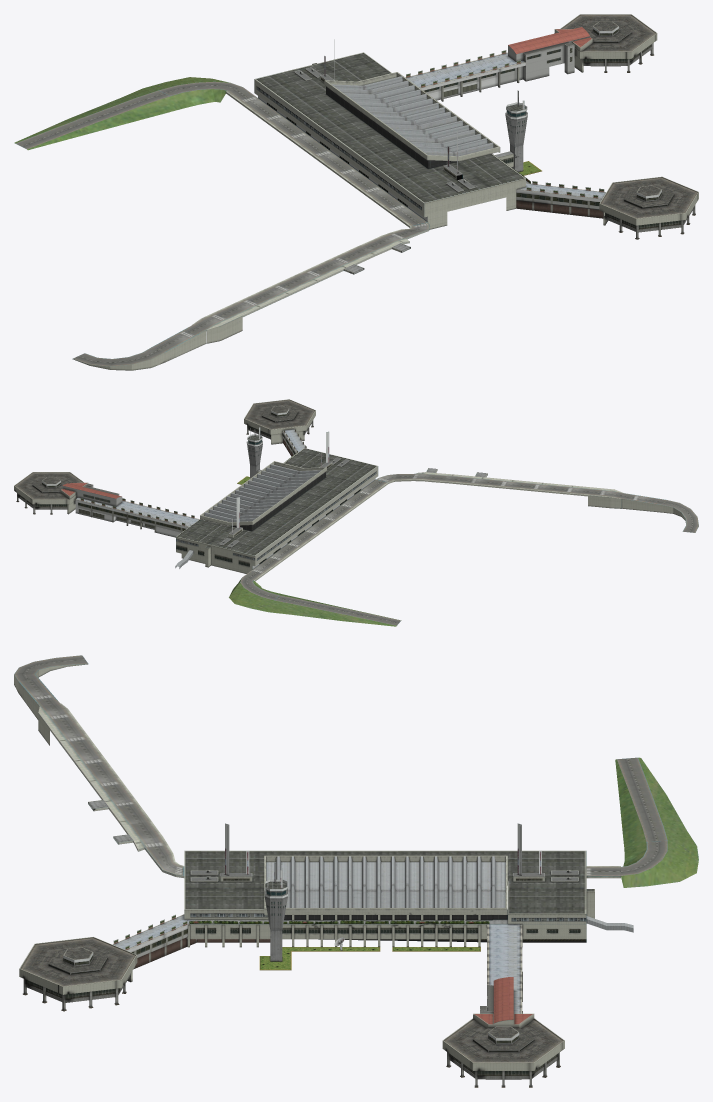
Rendered from terminal_nalV4.dae.
3 renders of one model, top to bottom at view 1: azimuth 30°, elevation 25°; view 2: azimuth 150°, elevation 25°; view 3: azimuth 270°, elevation 25°, orthographic. The views are drawn at different scales.
Parts seen in each view (by area): view 1: node3, node2; view 2: node3, node2; view 3: node3, node2.
Part boxes in pixels (box(x1,y1,x2,y2)): node3: box(14, 39, 541, 370); node2: box(405, 14, 698, 239); node3: box(175, 427, 698, 626); node2: box(14, 399, 315, 537); node3: box(14, 655, 698, 970); node2: box(19, 914, 564, 1087).
Size of the model in its own units: 436 by 44.03 by 291.
Materials: 2 (2 with a texture image).
